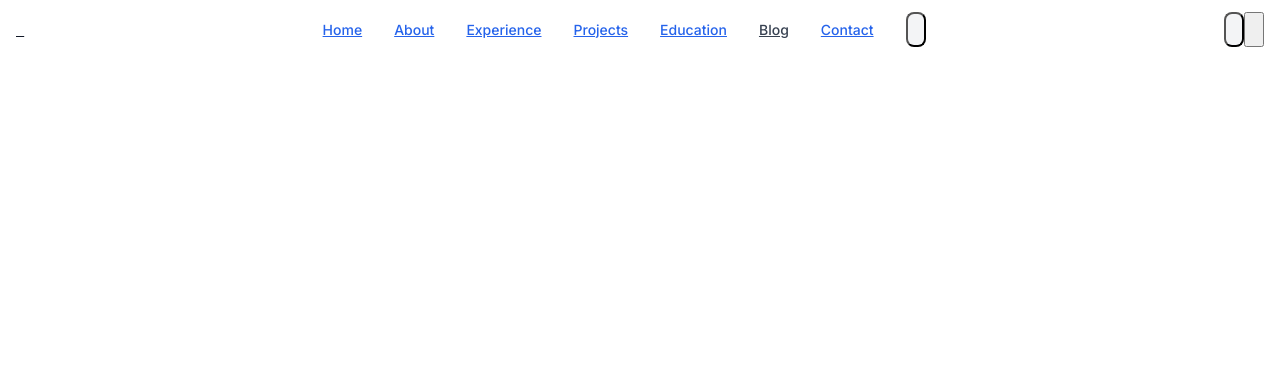
Test: Navigation Component › toggles mobile menu
The width and height of the screenshot is (1280, 379).
Click the button with test id "mobile-menu-button" at (1254, 30), box left=1244, top=12, right=1264, bottom=47
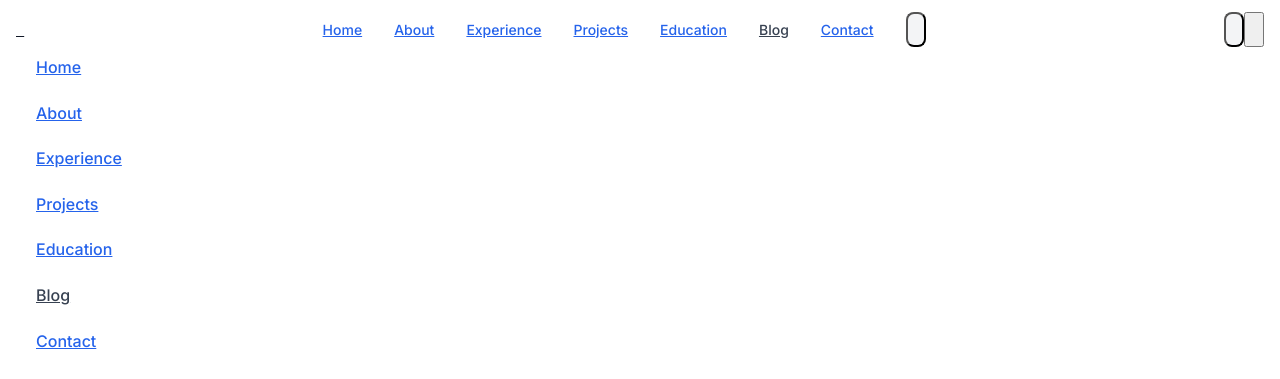
expect the element with test id "mobile-nav" is shown: met
